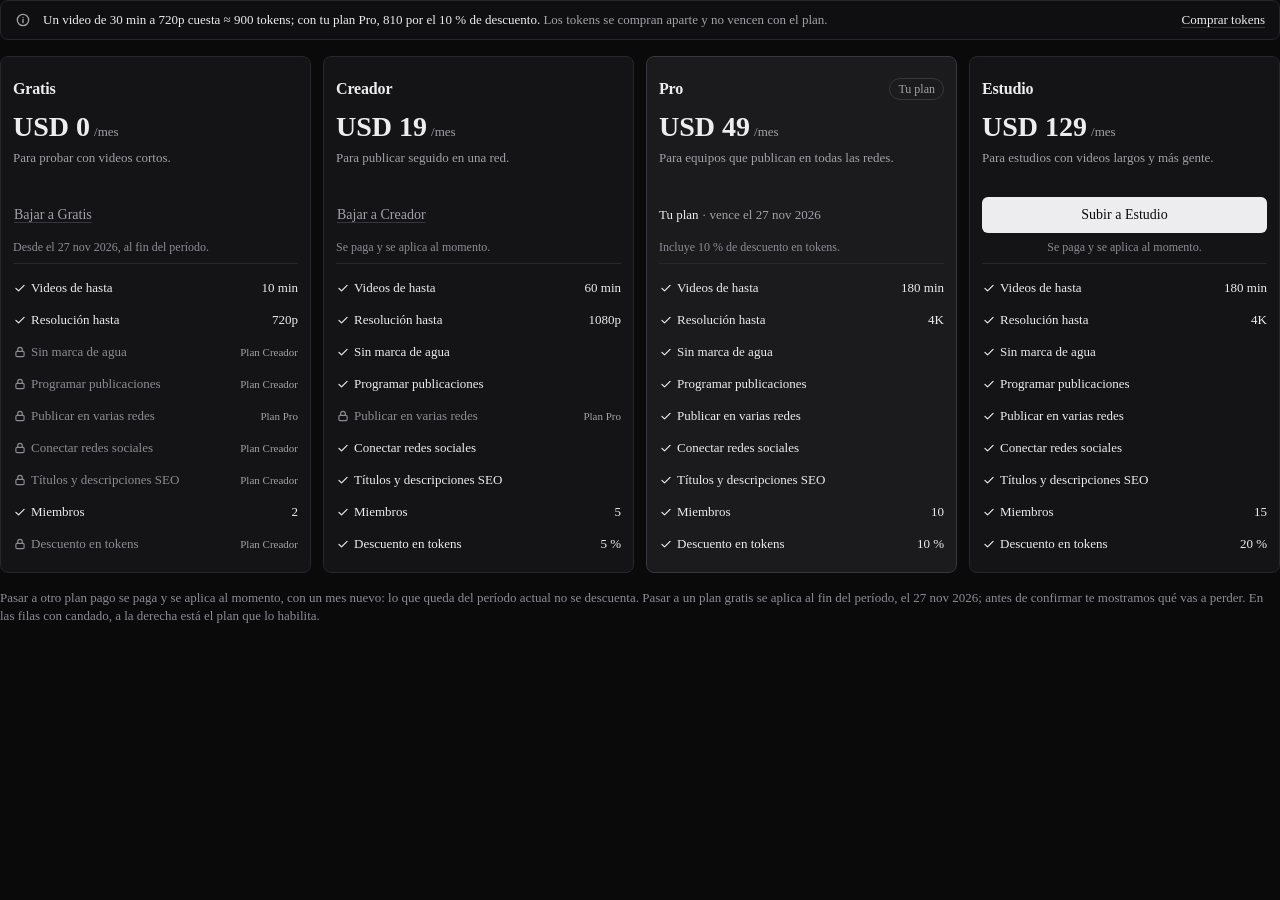
Scenario: G3 · Planes › no deja bajar a un plan con menos lugares que los ocupados
The image size is (1280, 900).
Expected: the element named "Plan Pro, tu plan" is shown, [646,56,957,573]
Click the button "Bajar a Gratis" at (53,215), box [0,197,107,233]
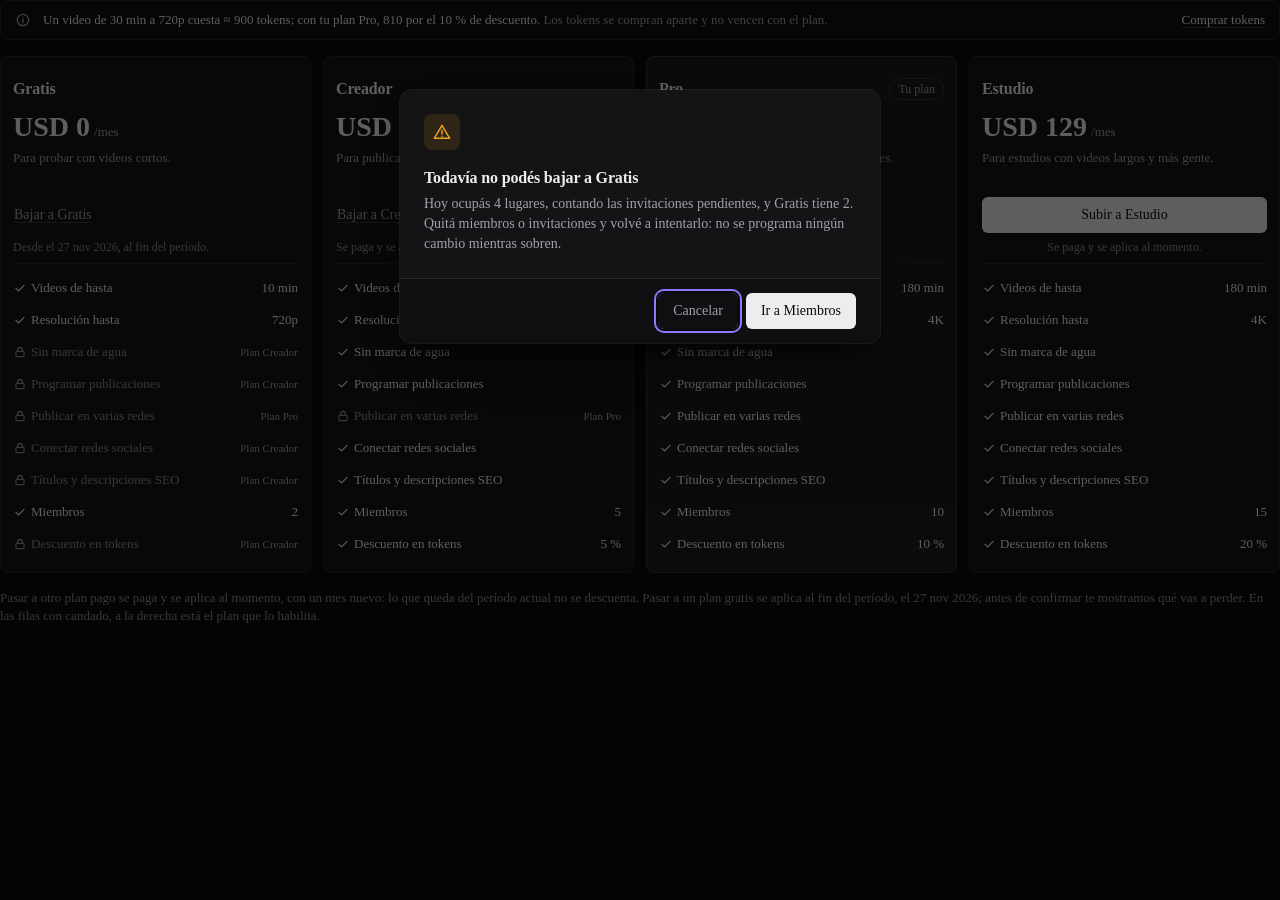
Expected: the text "Hoy ocupás 4 lugares, contando las invitaciones pendientes, y Gratis tiene 2" is shown, [424,196,853,251]
